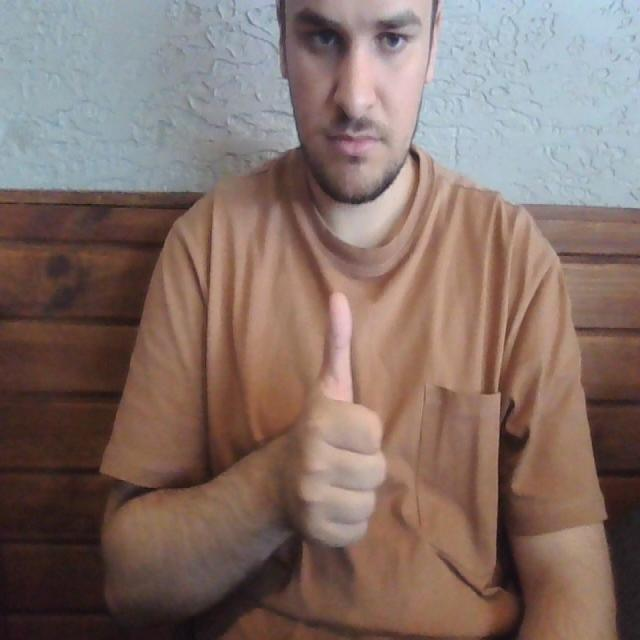Tamam: (269, 288, 400, 550)
